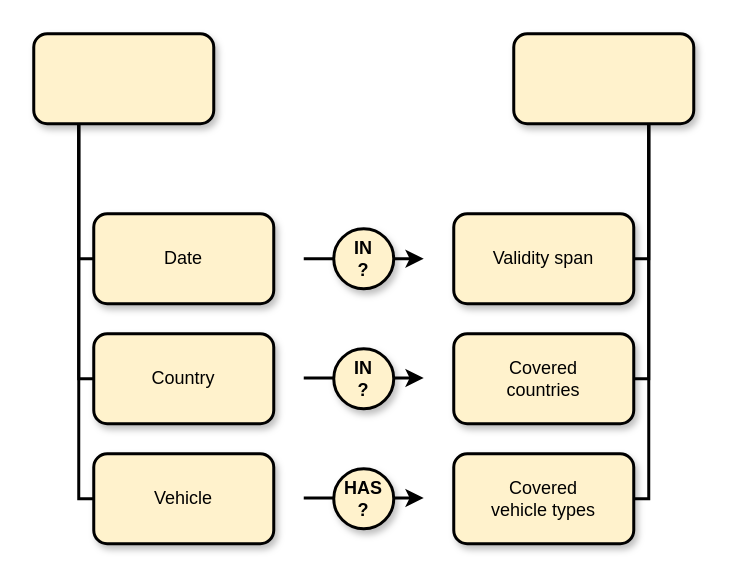
Some shapes in this 729 by 581 pixel diagram are drawn without their labels. The centre of each missing label's shape, as x and y in pixels:
"Contract" goes at point (605, 80).
"Incident" goes at point (125, 80).
